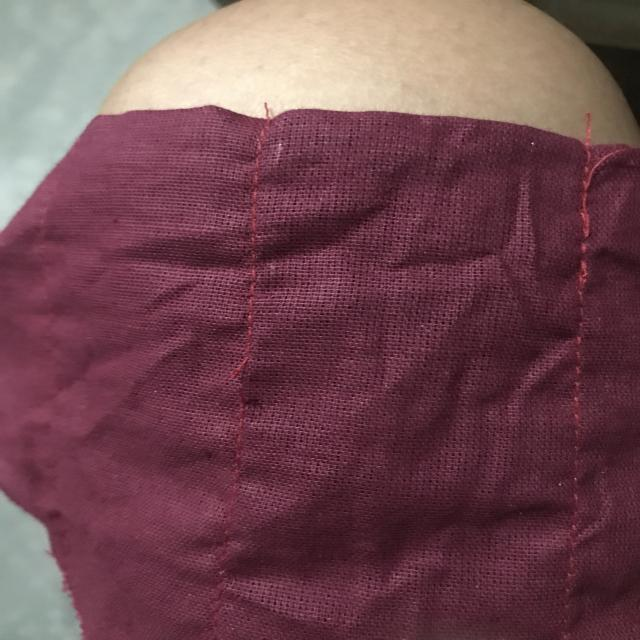broken: (196, 337, 268, 405)
good: (239, 202, 275, 292)
